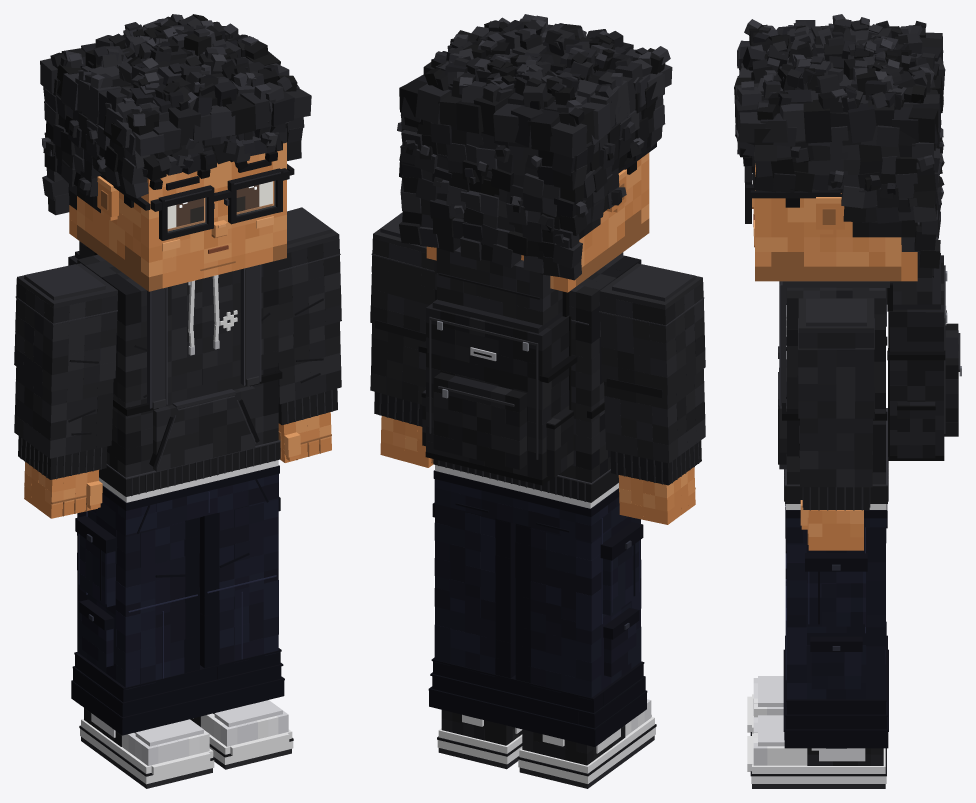
Rendered from jimmy-especial.22fb5395.glb.
3 renders of one model, left to right at view 1: azimuth 30°, elevation 25°; view 2: azimuth 150°, elevation 25°; view 3: azimuth 270°, elevation 25°, orthographic. The views are drawn at different scales.
Visible parts, largest first — view 1: leg_upper_r_cargo_shade, body_hoodie_3, body_hoodie_4, head_hair_3, body_hoodie_2, head_hair_1, body_hoodie_0, body_hoodie_1, leg_upper_r_cargo_4, head_hair_0, leg_upper_r_cargo_3, head_hair_4 (+28 smaller); view 2: leg_upper_r_cargo_shade, head_hair_1, head_hair_3, body_hoodie_3, head_hair_0, head_hair_4, body_hoodie_1, head_hair_2, body_hoodie_0, leg_upper_r_cargo_1, body_backpack_1, body_hoodie_2 (+25 smaller); view 3: head_hair_1, head_hair_4, leg_upper_r_cargo_shade, head_hair_2, head_hair_3, head_hair_0, body_hoodie_3, body_hoodie_0, body_hoodie_2, body_backpack_1, body_skin_3, leg_upper_r_cargo_4 (+29 smaller).
Boxes of the visible parts, x1,y1,x2,y2 form: leg_upper_r_cargo_shade: [71, 465, 284, 735]; body_hoodie_3: [14, 207, 341, 496]; body_hoodie_4: [15, 239, 341, 473]; head_hair_3: [48, 14, 292, 198]; body_hoodie_2: [16, 243, 341, 461]; head_hair_1: [40, 18, 311, 215]; body_hoodie_0: [14, 242, 341, 467]; body_hoodie_1: [14, 209, 339, 477]; leg_upper_r_cargo_4: [77, 485, 278, 665]; head_hair_0: [43, 15, 294, 212]; leg_upper_r_cargo_3: [77, 477, 278, 680]; head_hair_4: [46, 14, 297, 201]; leg_upper_r_cargo_shade: [428, 470, 647, 746]; head_hair_1: [400, 18, 649, 280]; head_hair_3: [400, 14, 672, 273]; body_hoodie_3: [379, 212, 705, 501]; head_hair_0: [400, 20, 647, 276]; head_hair_4: [399, 20, 665, 260]; body_hoodie_1: [373, 213, 705, 463]; head_hair_2: [399, 20, 654, 257]; body_hoodie_0: [371, 238, 696, 463]; leg_upper_r_cargo_1: [434, 479, 641, 700]; body_backpack_1: [422, 299, 569, 472]; body_hoodie_2: [370, 248, 705, 482]; head_hair_1: [735, 19, 945, 244]; head_hair_4: [734, 24, 943, 251]; leg_upper_r_cargo_shade: [783, 504, 888, 748]; head_hair_2: [751, 21, 944, 268]; head_hair_3: [735, 17, 941, 259]; head_hair_0: [734, 20, 943, 222]; body_hoodie_3: [779, 277, 932, 510]; body_hoodie_0: [786, 287, 886, 451]; body_hoodie_2: [779, 251, 932, 487]; body_backpack_1: [890, 253, 958, 458]; body_skin_3: [771, 193, 917, 550]; leg_upper_r_cargo_4: [786, 518, 886, 699].
Size of the model in its own units: 0.7477 by 1.7 by 0.4951.
